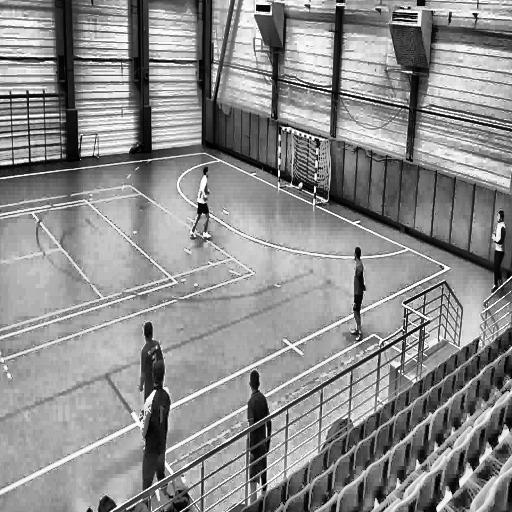ball: (296, 180, 306, 193)
player: (135, 358, 172, 491), (245, 362, 274, 502), (342, 243, 368, 347), (187, 162, 217, 248), (138, 319, 167, 402), (484, 207, 510, 297)
